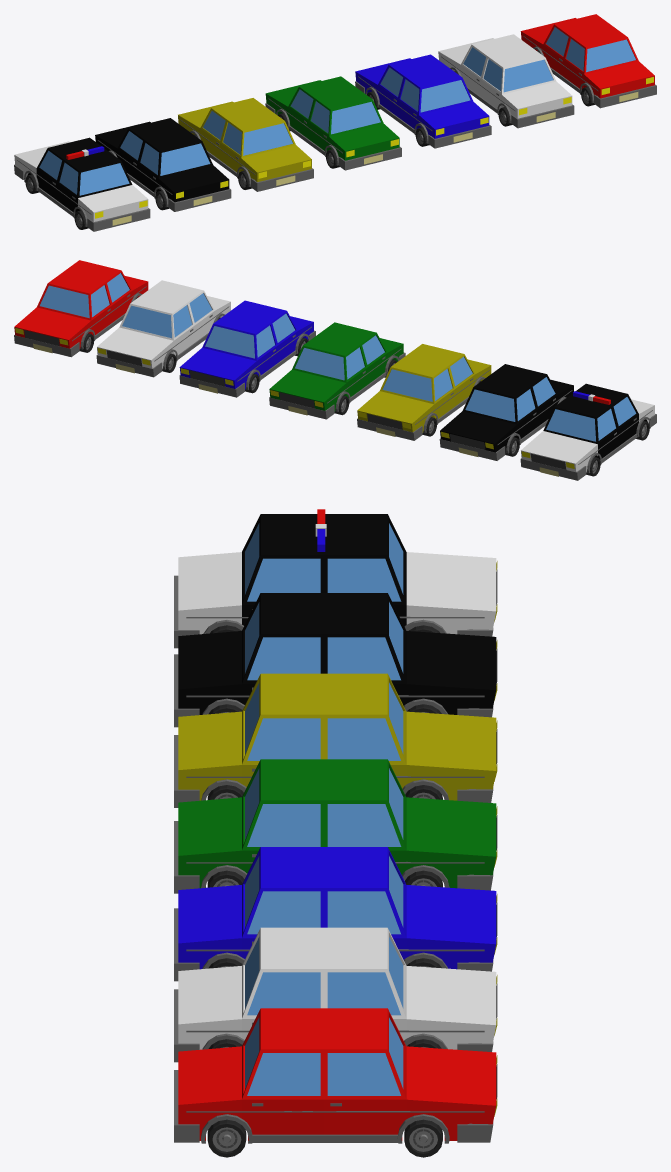
Rendered from Cars.fbx.
The picture shows the model from 3 angles, top to bottom: view 1: azimuth 30°, elevation 25°; view 2: azimuth 150°, elevation 25°; view 3: azimuth 270°, elevation 25°; orthographic projection. The views are drawn at different scales.
Parts seen in each view (by area): view 1: Cube, Cube.008, Cube.029, Cube.015, Cube.036, Cube.022, Cube.001, Plane.028, Cube.031, Cube.003, Cube.024, Cube.044 (+4 smaller); view 2: Cube.008, Cube, Cube.015, Cube.036, Cube.029, Cube.022, Cube.001, Cube.045, Cube.025, Cube.011, Cube.032, Cube.018 (+3 smaller); view 3: Cube.036, Cube.008, Cube.015, Cube.029, Cube, Cube.022, Cube.001, Circle.014, Cube.037, Circle.006.
Boxes of the visible parts, x1,y1,x2,y2 form: Cube: [355, 54, 489, 143]; Cube.008: [265, 76, 399, 165]; Cube.029: [438, 34, 572, 123]; Cube.015: [178, 98, 311, 186]; Cube.036: [520, 14, 654, 103]; Cube.022: [95, 118, 229, 206]; Cube.001: [14, 137, 148, 226]; Plane.028: [112, 92, 638, 225]; Cube.031: [511, 104, 574, 128]; Cube.003: [428, 125, 491, 148]; Cube.024: [168, 188, 231, 211]; Cube.044: [87, 208, 150, 231]; Cube.008: [269, 322, 403, 411]; Cube: [179, 300, 313, 389]; Cube.015: [357, 344, 491, 433]; Cube.036: [14, 260, 148, 349]; Cube.029: [97, 280, 230, 369]; Cube.022: [440, 364, 573, 453]; Cube.001: [521, 383, 654, 473]; Cube.045: [520, 458, 586, 480]; Cube.025: [439, 438, 505, 460]; Cube.011: [269, 397, 334, 419]; Cube.032: [96, 355, 162, 377]; Cube.018: [357, 418, 422, 440]; Cube.036: [178, 1008, 496, 1143]; Cube.008: [178, 759, 496, 888]; Cube.015: [178, 673, 496, 800]; Cube.029: [178, 927, 496, 1049]; Cube: [178, 847, 496, 969]; Cube.022: [178, 593, 496, 714]; Cube.001: [178, 514, 496, 634]; Circle.014: [207, 1119, 442, 1157]; Cube.037: [252, 1134, 397, 1142]; Circle.006: [207, 870, 442, 887].
Size of the model in its own units: 1974 by 181 by 489.
